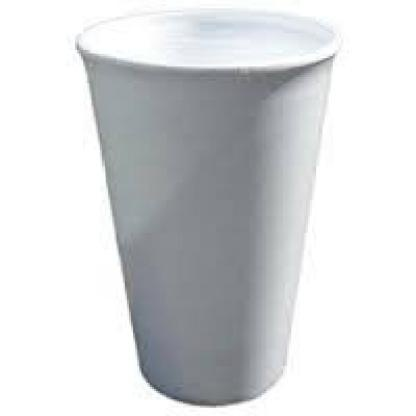trash: (77, 8, 336, 403)
